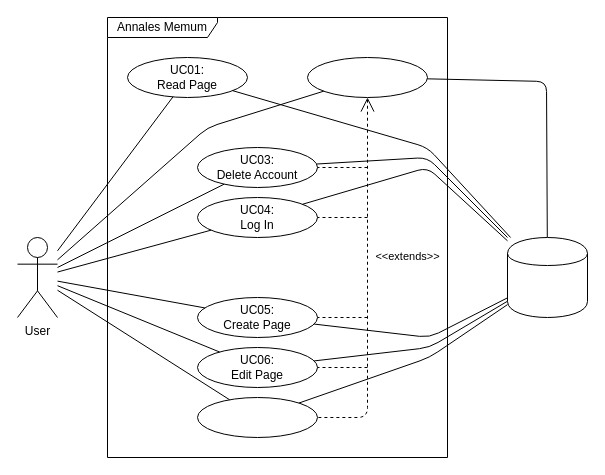
This 605x475 diagram has some shape labels left out. Each missing label, with the centre of its shape:
Database: point 547,277
UC02: Create Account: point 367,77
UC07: Delete Page: point 257,417
